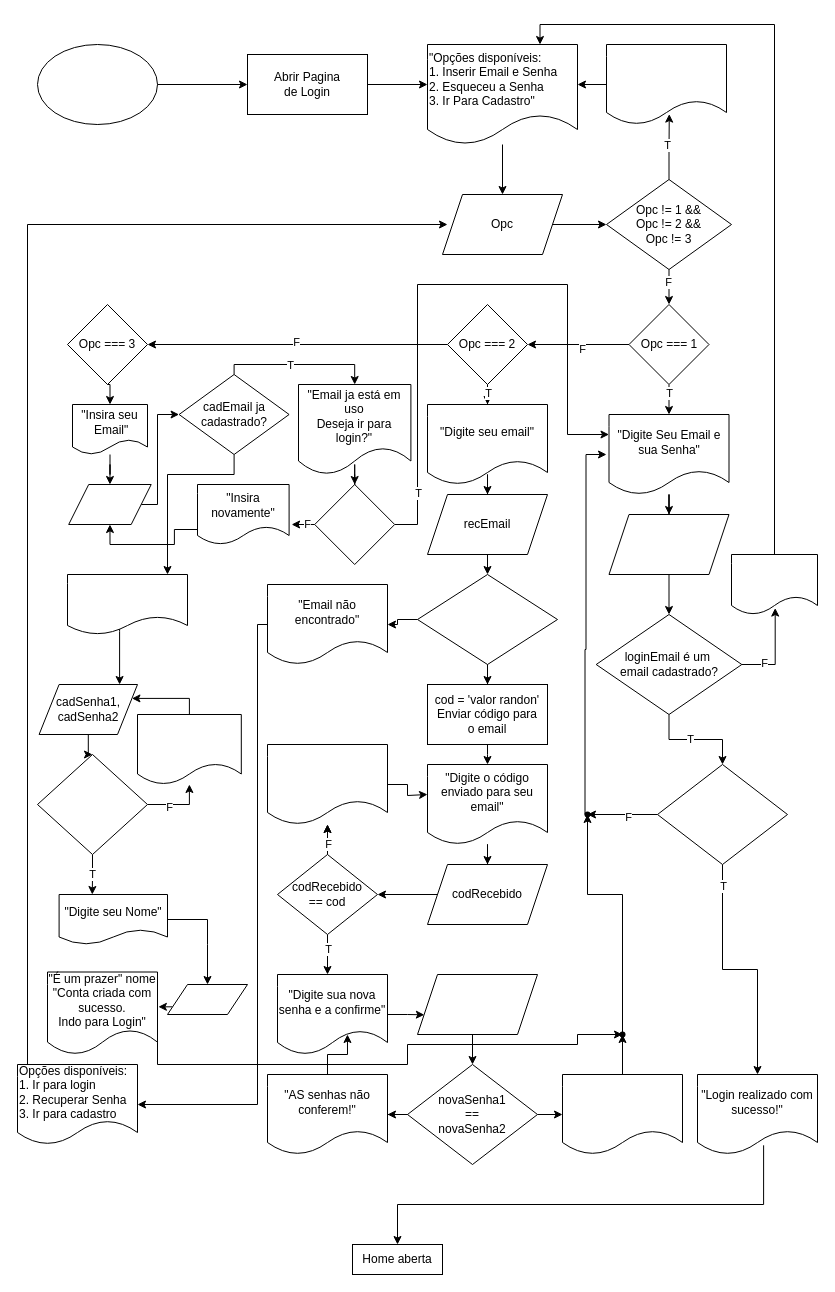
The diagram is 835 pixels wide and 1292 high, and some of its shapes have lost their labels. Here are the shapes that lost their labels. From the top down, the centre of each, then its label:
[97,84]: Inicio
[666,84]: "Escolha uma opção válida!"
[109,504]: cadEmail
[354,524]: Deseja?
[668,544]: loginEmail, loginSenha
[127,604]: "Insira sua senha e confirme ela"
[774,584]: "Email não encontrado"
[487,619]: recEmail é um email cadastrado?
[188,749]: "Senhas diferentes! Digite novamente"
[92,804]: cadSenha1 == cadSenha2
[327,784]: "Código invalido"
[722,814]: loginSenha conhecide com o loginEmail?
[207,999]: nome
[477,1004]: novaSenha1, novaSenha2
[622,1114]: "Senha redefinida com sucesso. Indo para Login!"
